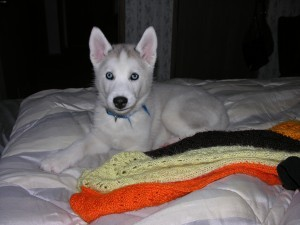dog: (37, 25, 233, 175)
